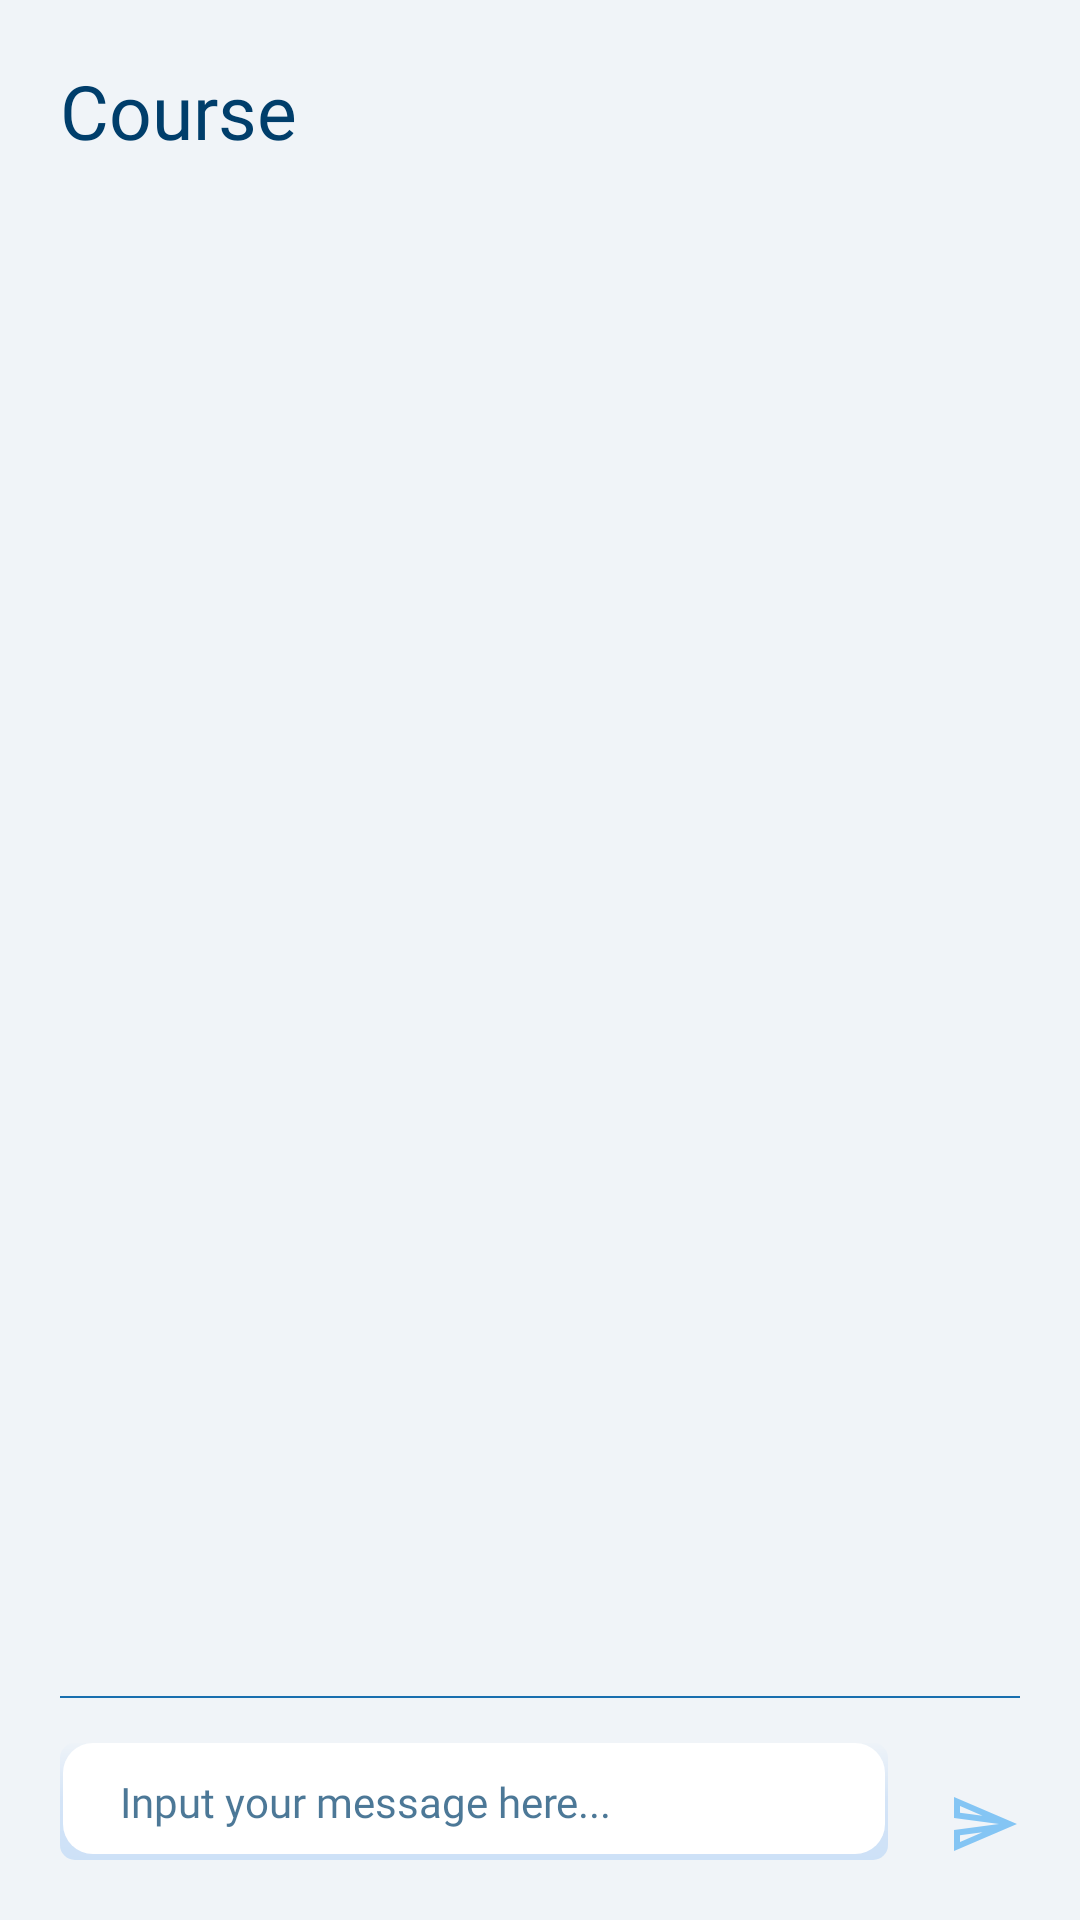

Where icons sit on this 1080 × 1920 app screen, as (x1, y1, x2, y2):
send: (954, 1797, 1016, 1851)
